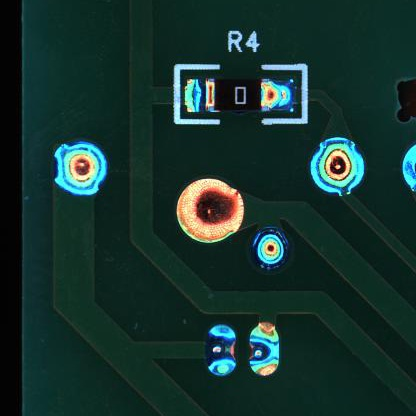spot: (311, 139, 367, 198), (53, 143, 111, 197), (249, 226, 290, 274), (250, 322, 283, 380), (207, 323, 239, 379)
